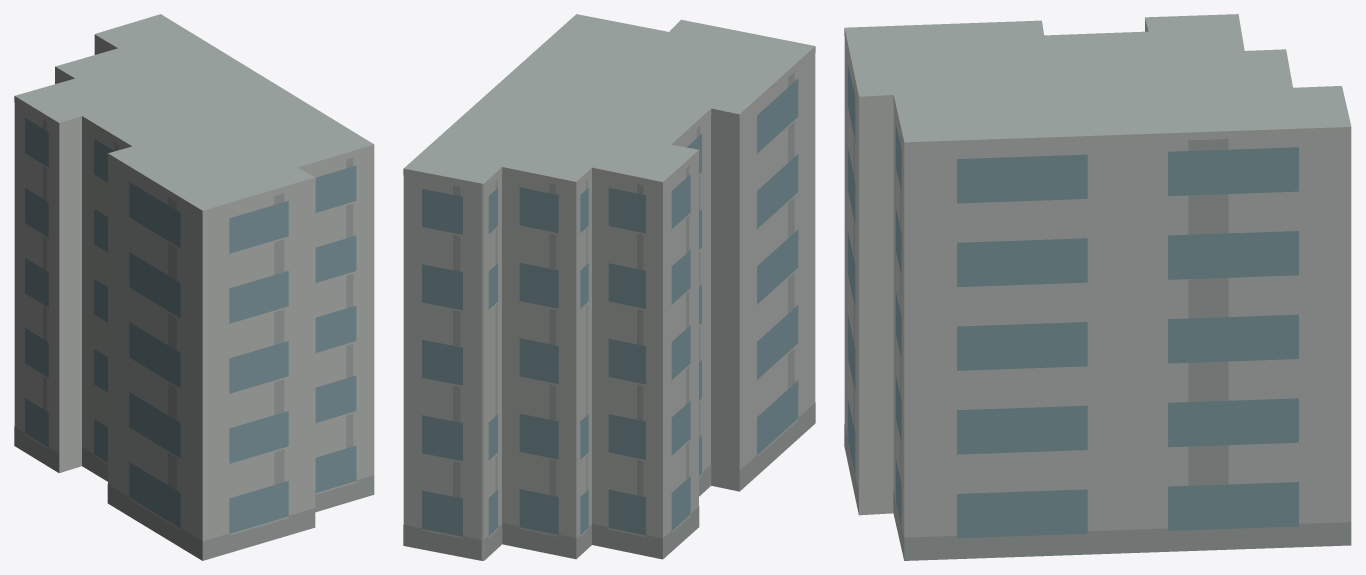
The model's file is survey-upis-32610631.glb.
The picture shows the model from 3 angles, left to right: view 1: azimuth 30°, elevation 25°; view 2: azimuth 150°, elevation 25°; view 3: azimuth 270°, elevation 25°; orthographic projection. The views are drawn at different scales.
Visible parts, largest first — view 1: survey-upis-32610631.tmp; view 2: survey-upis-32610631.tmp; view 3: survey-upis-32610631.tmp.
Boxes of the visible parts, x1,y1,x2,y2 form: survey-upis-32610631.tmp: [14, 14, 374, 560]; survey-upis-32610631.tmp: [403, 14, 815, 560]; survey-upis-32610631.tmp: [844, 14, 1351, 560].
Bounding box in the file's own units: 8.56 × 13 × 14.28.
